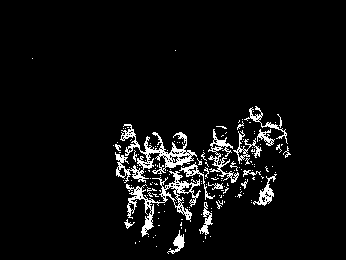person: (199, 123, 239, 237), (163, 131, 200, 254), (113, 122, 143, 229), (255, 118, 289, 207), (141, 131, 167, 236), (235, 104, 263, 195)
